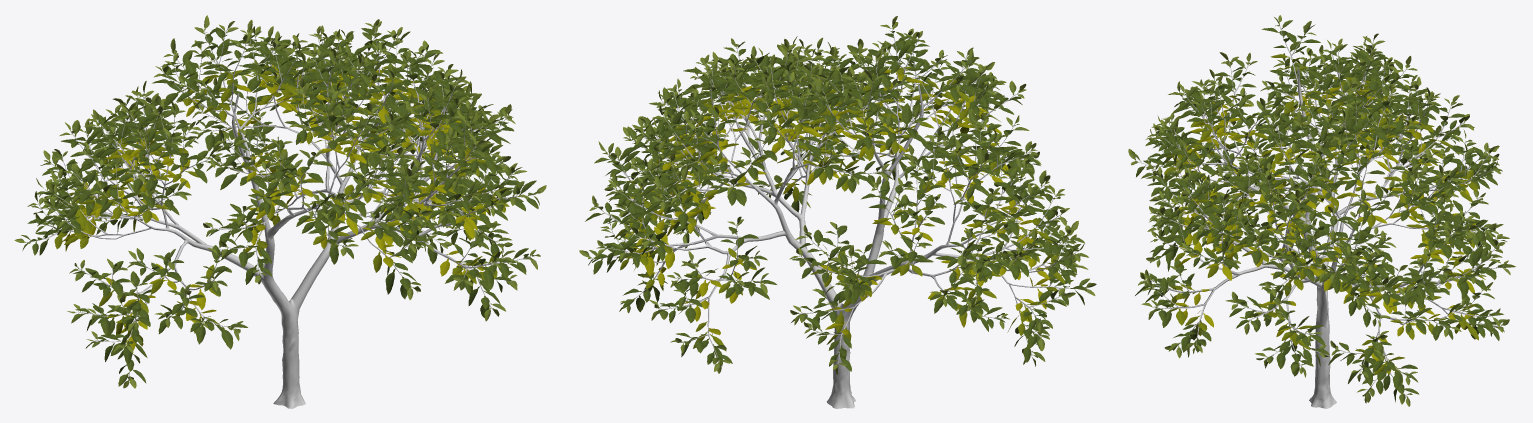
Rendered from Citrus_orange_25m_no_mix.obj.
3 renders of one model, left to right at view 1: azimuth 30°, elevation 25°; view 2: azimuth 150°, elevation 25°; view 3: azimuth 270°, elevation 25°, orthographic. The views are drawn at different scales.
Visible parts, largest first — view 1: Citrus_aurant_leaf_01, Citrus_aurant_leaf_04, Citrus_aurantium_bark, Citrus_aurant_leaf_01_y1, Citrus_aurant_leaf_01_y2, Citrus_aurant_leaf_02, Citrus_aurantium_twig, Citrus_aurant_leaf_03; view 2: Citrus_aurant_leaf_01, Citrus_aurant_leaf_04, Citrus_aurantium_bark, Citrus_aurant_leaf_01_y1, Citrus_aurant_leaf_01_y2, Citrus_aurant_leaf_02, Citrus_aurantium_twig, Citrus_aurant_leaf_03; view 3: Citrus_aurant_leaf_01, Citrus_aurant_leaf_04, Citrus_aurant_leaf_01_y1, Citrus_aurantium_bark, Citrus_aurant_leaf_01_y2, Citrus_aurant_leaf_02, Citrus_aurantium_twig, Citrus_aurant_leaf_03.
Part boxes in pixels (x1,y1,x2,y2): Citrus_aurant_leaf_01: [27, 27, 538, 383]; Citrus_aurant_leaf_04: [14, 15, 546, 388]; Citrus_aurantium_bark: [57, 62, 498, 408]; Citrus_aurant_leaf_01_y1: [54, 61, 511, 342]; Citrus_aurant_leaf_01_y2: [62, 65, 493, 350]; Citrus_aurant_leaf_02: [21, 28, 534, 386]; Citrus_aurantium_twig: [28, 27, 534, 378]; Citrus_aurant_leaf_03: [72, 31, 528, 311]; Citrus_aurant_leaf_01: [585, 33, 1086, 371]; Citrus_aurant_leaf_04: [579, 16, 1096, 374]; Citrus_aurantium_bark: [630, 68, 1054, 408]; Citrus_aurant_leaf_01_y1: [614, 61, 1065, 351]; Citrus_aurant_leaf_01_y2: [625, 69, 1051, 335]; Citrus_aurant_leaf_02: [589, 31, 1089, 364]; Citrus_aurantium_twig: [593, 27, 1075, 363]; Citrus_aurant_leaf_03: [601, 49, 1088, 364]; Citrus_aurant_leaf_01: [1135, 27, 1515, 403]; Citrus_aurant_leaf_04: [1128, 15, 1510, 406]; Citrus_aurant_leaf_01_y1: [1164, 54, 1478, 375]; Citrus_aurantium_bark: [1172, 54, 1475, 408]; Citrus_aurant_leaf_01_y2: [1167, 85, 1485, 374]; Citrus_aurant_leaf_02: [1128, 20, 1506, 404]; Citrus_aurantium_twig: [1136, 24, 1503, 396]; Citrus_aurant_leaf_03: [1146, 44, 1509, 377].
Size of the model in its own units: 3.27 by 2.56 by 2.63.
